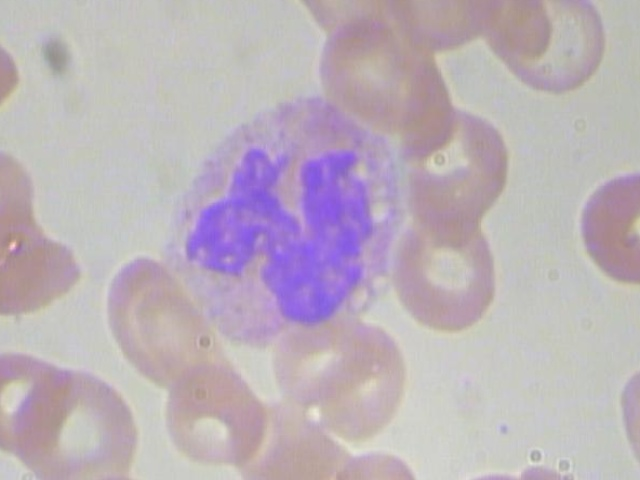RBC: (10, 359, 146, 480), (392, 202, 506, 341), (567, 154, 640, 291)
WBC: (156, 80, 415, 352)
